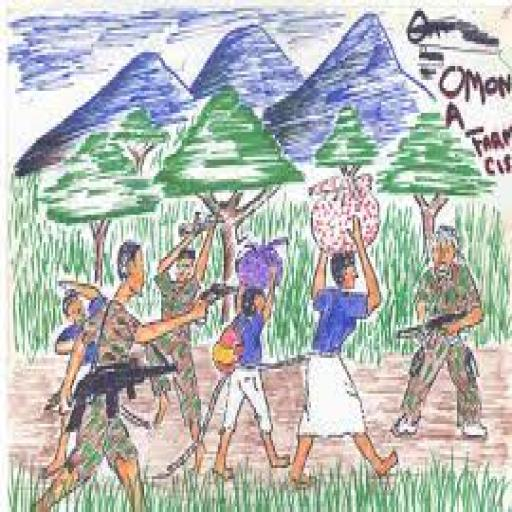person: (36, 238, 216, 509), (285, 159, 388, 500), (391, 217, 487, 450), (209, 236, 290, 492), (148, 202, 219, 474), (49, 270, 97, 421)
